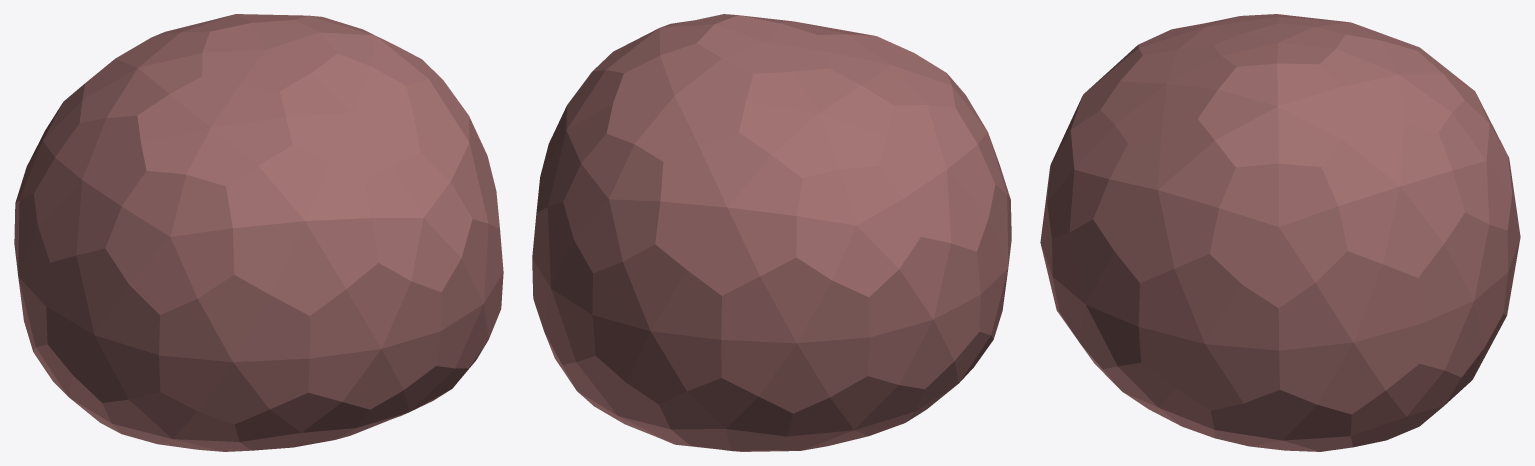
The model's file is Cerveau_Pickup.fbx.
The picture shows the model from 3 angles, left to right: view 1: azimuth 30°, elevation 25°; view 2: azimuth 150°, elevation 25°; view 3: azimuth 270°, elevation 25°; orthographic projection. The views are drawn at different scales.
Visible parts, largest first — view 1: zombie; view 2: zombie; view 3: zombie.
Part boxes in pixels (x1=…): zombie: x1=14, y1=14, x2=503, y2=451; zombie: x1=532, y1=14, x2=1011, y2=451; zombie: x1=1040, y1=14, x2=1520, y2=451.
Size of the model in its own units: 27.06 by 22.98 by 27.11.
1 material, 1 textured.
